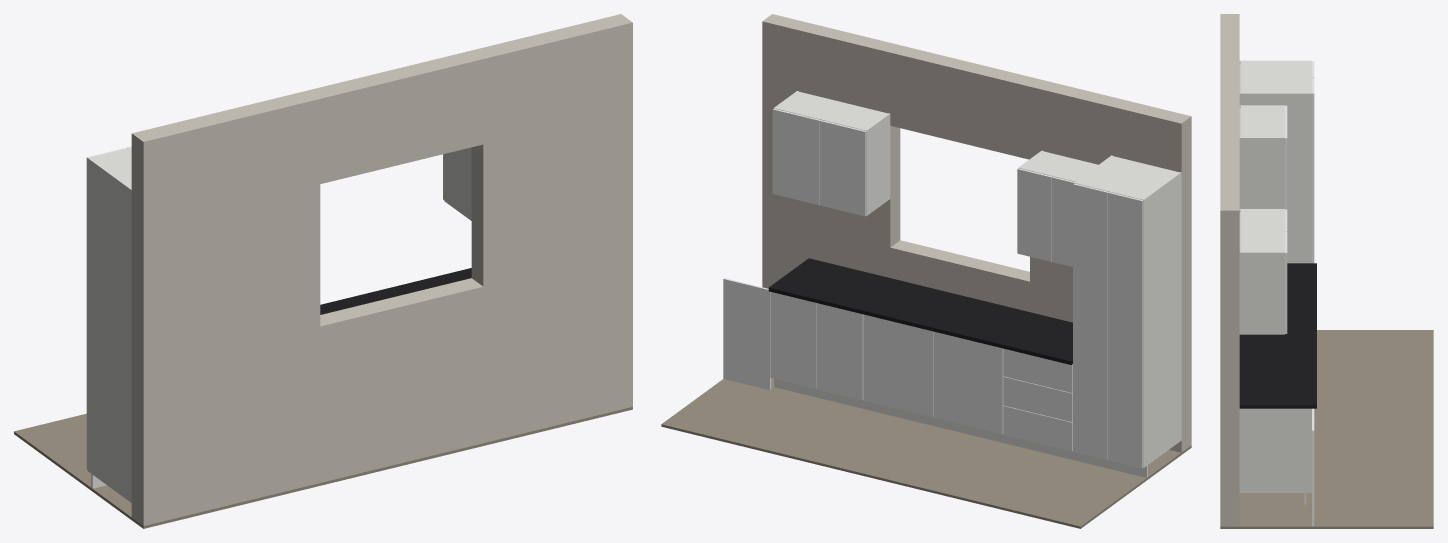
File: Cozinha_Linear_3600.dae
The picture shows the model from 3 angles, left to right: view 1: azimuth 30°, elevation 25°; view 2: azimuth 150°, elevation 25°; view 3: azimuth 270°, elevation 25°; orthographic projection. The views are drawn at different scales.
Visible parts, largest first — view 1: Parede_1, Parede_4, Parede_2, Parede_3, M01_tall_cabinet_Lateral_Esquerda, Piso, M07_wall_cabinet_Lateral_Esquerda, M02_drawer_cabinet_Tampo, M01_tall_cabinet_Tampo_Interno; view 2: Piso, Parede_4, M01_tall_cabinet, Parede_1, M02_drawer_cabinet_Tampo, M03_sink_cabinet, Parede_3, M01_tall_cabinet_Lateral_Esquerda, M07_wall_cabinet, M04_base_cabinet, M02_drawer_cabinet, Parede_2 (+10 smaller); view 3: Piso, M02_drawer_cabinet_Tampo, Parede_4, M04_base_cabinet_Lateral_Direita, M01_tall_cabinet_Lateral_Direita, M07_wall_cabinet_Lateral_Direita, M06_wall_cabinet_Lateral_Direita, M01_tall_cabinet_Tampo_Interno, M07_wall_cabinet_Tampo_Interno, M06_wall_cabinet_Tampo_Interno, Parede_1, Parede_3 (+4 smaller).
Boxes of the visible parts, <box> form: Parede_1: <box>131,90,320,525</box>; Parede_4: <box>471,14,632,442</box>; Parede_2: <box>320,278,483,482</box>; Parede_3: <box>309,50,483,183</box>; M01_tall_cabinet_Lateral_Esquerda: <box>87,157,131,502</box>; Piso: <box>14,407,632,528</box>; M07_wall_cabinet_Lateral_Esquerda: <box>444,147,471,220</box>; M02_drawer_cabinet_Tampo: <box>320,268,471,314</box>; M01_tall_cabinet_Tampo_Interno: <box>90,147,131,187</box>; Piso: <box>661,378,1191,528</box>; Parede_4: <box>762,14,900,288</box>; M01_tall_cabinet: <box>1073,183,1143,468</box>; Parede_1: <box>1030,79,1191,452</box>; M02_drawer_cabinet_Tampo: <box>768,258,1072,364</box>; M03_sink_cabinet: <box>863,314,1003,434</box>; Parede_3: <box>890,45,1039,159</box>; M01_tall_cabinet_Lateral_Esquerda: <box>1142,172,1181,467</box>; M07_wall_cabinet: <box>772,108,866,216</box>; M04_base_cabinet: <box>770,292,863,400</box>; M02_drawer_cabinet: <box>1003,348,1072,451</box>; Parede_2: <box>890,240,1029,311</box>; Piso: <box>1220,330,1433,528</box>; M02_drawer_cabinet_Tampo: <box>1239,263,1316,408</box>; Parede_4: <box>1220,150,1239,526</box>; M04_base_cabinet_Lateral_Direita: <box>1239,408,1311,492</box>; M01_tall_cabinet_Lateral_Direita: <box>1239,92,1311,263</box>; M07_wall_cabinet_Lateral_Direita: <box>1239,252,1284,334</box>; M06_wall_cabinet_Lateral_Direita: <box>1239,137,1284,208</box>; M01_tall_cabinet_Tampo_Interno: <box>1240,61,1311,92</box>; M07_wall_cabinet_Tampo_Interno: <box>1240,210,1284,251</box>; M06_wall_cabinet_Tampo_Interno: <box>1240,106,1284,137</box>; Parede_1: <box>1220,14,1239,84</box>; Parede_3: <box>1220,85,1239,150</box>.
Size of the model in its own units: 3600 by 1650 by 2720.
